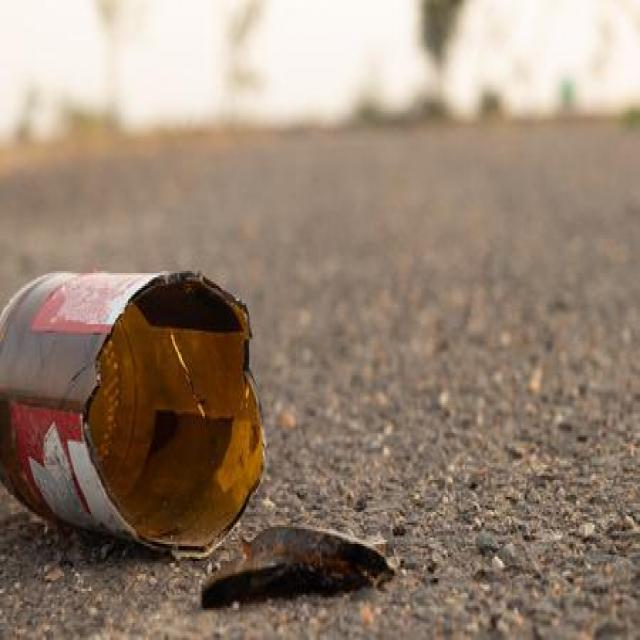non-organic waste: (0, 265, 272, 558)
